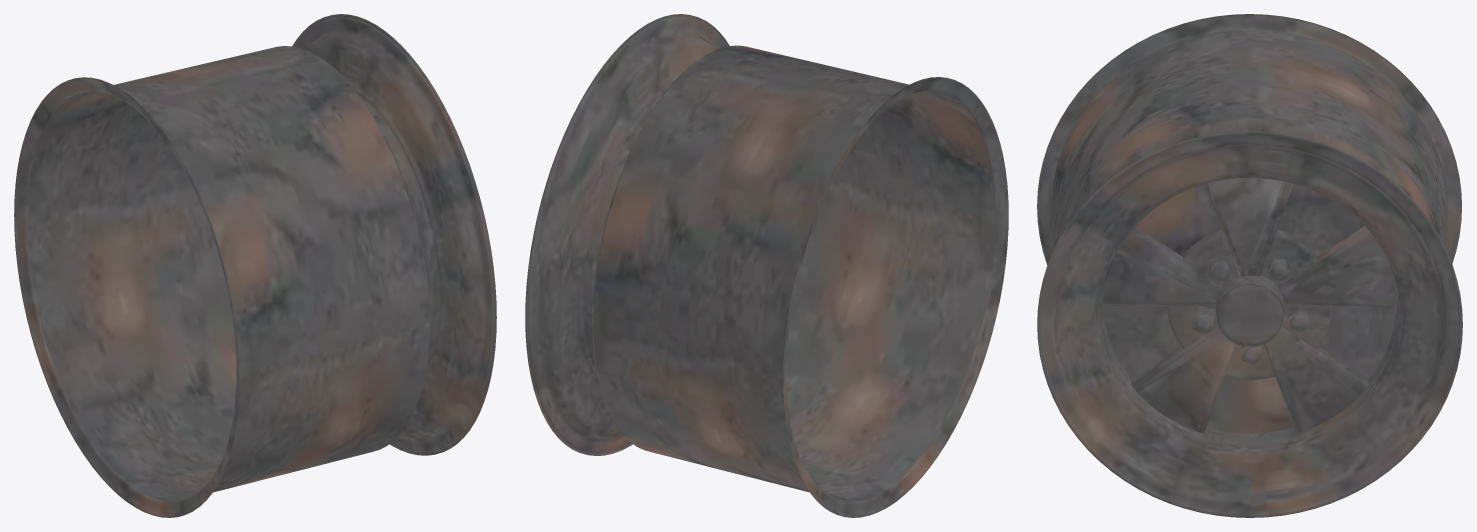
The picture shows the model from 3 angles, left to right: view 1: azimuth 30°, elevation 25°; view 2: azimuth 150°, elevation 25°; view 3: azimuth 270°, elevation 25°; orthographic projection. The views are drawn at different scales.
Parts seen in each view (by area): view 1: Strato; view 2: Strato; view 3: Strato.
Boxes of the visible parts, x1,y1,x2,y2 form: Strato: [14, 14, 496, 517]; Strato: [525, 14, 1008, 517]; Strato: [1037, 14, 1462, 517].
Size of the model in its own units: 0.7731 by 1.17 by 1.18.
Materials: 1 (1 with a texture image).
